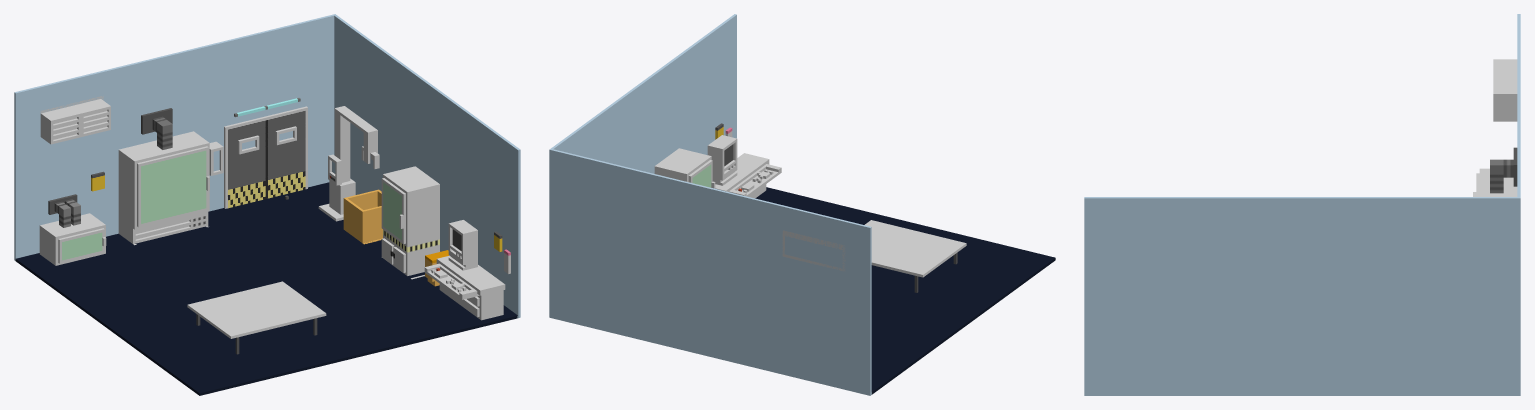
Rendered from BlankFile 4.obj.
3 views of the same model, side by side, from view 1: azimuth 30°, elevation 25°; view 2: azimuth 150°, elevation 25°; view 3: azimuth 270°, elevation 25° (orthographic). The views are drawn at different scales.
Visible parts, largest first — view 1: _14, _6, _13, object 1, _7, _12, _5, _15, _3, _8, _2, _11 (+2 smaller); view 2: _14, _7, _15, _2, _5, _3, _11; view 3: _14, _3, _13.
Part boxes in pixels (bbox=[...]): _14: bbox=[14, 14, 520, 395]; _6: bbox=[224, 106, 307, 208]; _13: bbox=[118, 98, 300, 245]; object 1: bbox=[285, 106, 382, 244]; _7: bbox=[187, 281, 326, 354]; _12: bbox=[137, 146, 209, 227]; _5: bbox=[381, 166, 439, 279]; _15: bbox=[424, 255, 505, 320]; _3: bbox=[40, 96, 110, 144]; _8: bbox=[39, 194, 105, 265]; _2: bbox=[448, 220, 477, 286]; _11: bbox=[381, 178, 405, 244]; _14: bbox=[549, 14, 1055, 395]; _7: bbox=[864, 220, 966, 292]; _15: bbox=[715, 153, 781, 198]; _2: bbox=[707, 135, 760, 185]; _5: bbox=[654, 148, 711, 181]; _3: bbox=[782, 230, 845, 271]; _11: bbox=[688, 160, 715, 188]; _14: bbox=[1084, 14, 1520, 395]; _3: bbox=[1493, 59, 1517, 121]; _13: bbox=[1479, 147, 1517, 196].
Size of the model in its own units: 128 by 64 by 128.
